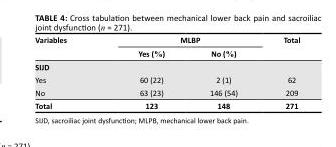table: (34, 34, 299, 110)
table column: (101, 34, 186, 110), (186, 34, 259, 110), (34, 34, 101, 110), (259, 34, 299, 110)
table column header: (34, 34, 299, 59)
table projected row header: (34, 59, 299, 72)
table row: (34, 46, 299, 59), (34, 59, 299, 72), (34, 72, 299, 85), (34, 85, 299, 98), (34, 34, 299, 46), (34, 98, 299, 110)
table spanning cell: (101, 34, 259, 46), (34, 34, 101, 59), (259, 34, 299, 59)
